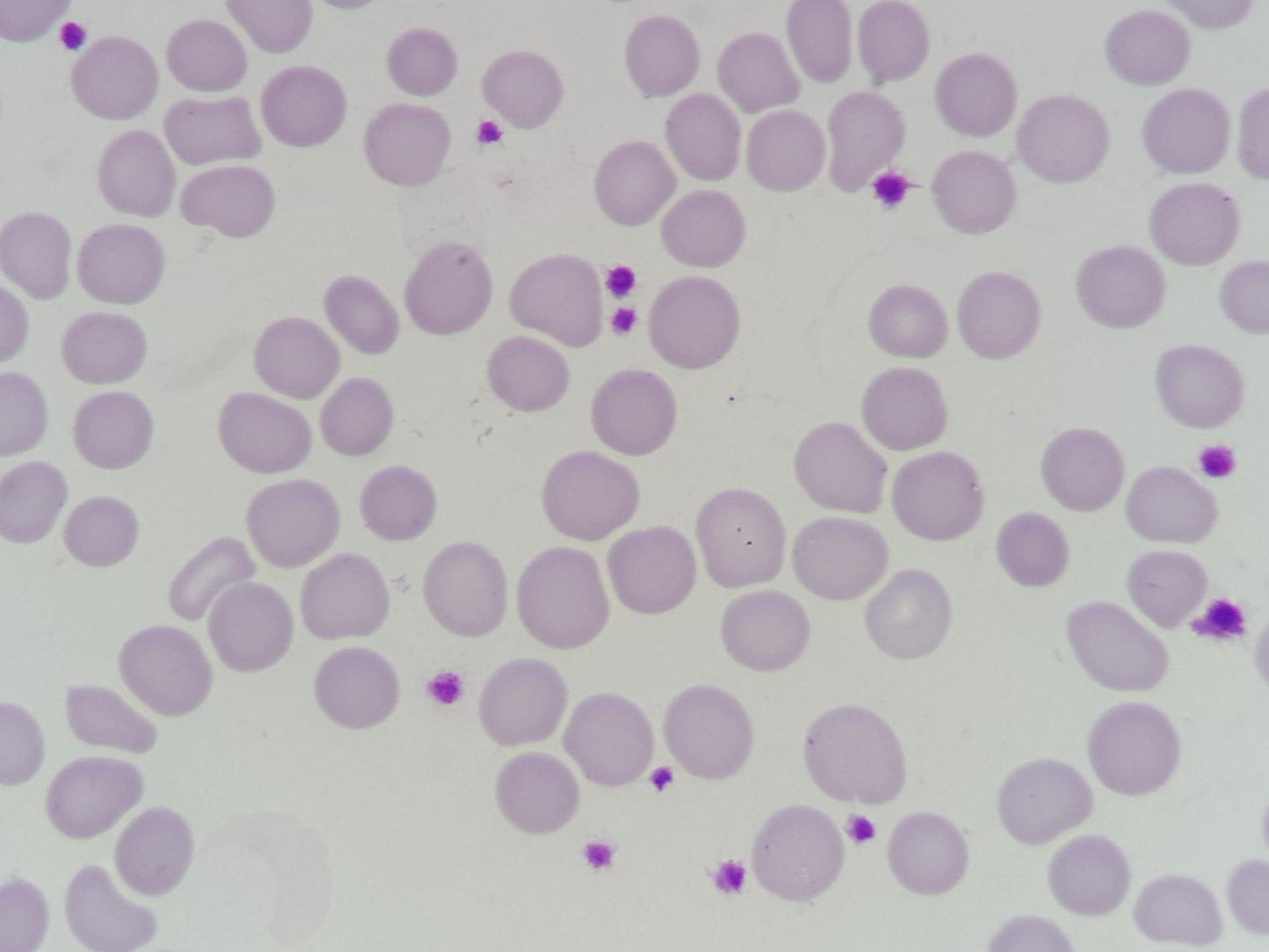Uninfected: (803, 707, 906, 807), (516, 547, 609, 647), (751, 806, 846, 902), (695, 490, 788, 588), (1067, 602, 1168, 691), (117, 626, 212, 718), (542, 449, 638, 540), (1086, 702, 1179, 795), (510, 255, 604, 347), (561, 692, 652, 787), (663, 685, 753, 781), (46, 755, 145, 842), (405, 243, 496, 335), (299, 552, 392, 642), (246, 478, 340, 567), (421, 542, 509, 637), (218, 391, 316, 476), (647, 276, 738, 367), (478, 658, 568, 750), (795, 423, 888, 512), (205, 581, 295, 672), (997, 759, 1092, 845), (865, 569, 954, 660), (63, 866, 157, 952), (791, 517, 888, 600), (607, 527, 697, 616), (1142, 88, 1231, 177), (719, 588, 811, 674), (1154, 344, 1242, 433), (895, 450, 981, 541), (825, 93, 905, 189), (1017, 97, 1107, 182), (169, 537, 257, 623), (1149, 183, 1238, 268), (77, 223, 166, 307), (591, 369, 677, 455), (253, 317, 342, 400), (363, 104, 452, 187), (71, 36, 160, 119), (114, 806, 195, 897), (165, 94, 264, 168), (1076, 246, 1164, 329), (261, 65, 349, 148), (98, 129, 179, 219), (179, 164, 276, 239), (957, 272, 1040, 358), (313, 648, 400, 730), (64, 683, 157, 759), (1042, 430, 1126, 514), (494, 751, 578, 835), (663, 93, 743, 181), (660, 187, 745, 269), (931, 152, 1016, 233), (1047, 835, 1132, 916), (1128, 469, 1217, 546), (887, 813, 969, 896), (862, 372, 946, 452), (594, 142, 674, 226), (745, 109, 825, 193), (1127, 551, 1210, 631), (63, 309, 149, 386), (935, 55, 1017, 135), (487, 336, 571, 414), (73, 391, 154, 470), (1105, 11, 1191, 85), (319, 375, 396, 457), (481, 51, 563, 128), (1, 212, 72, 300), (1133, 874, 1221, 945), (717, 33, 797, 110), (359, 464, 436, 542), (324, 276, 400, 355), (996, 511, 1071, 591), (625, 17, 699, 97), (868, 284, 949, 357), (167, 20, 249, 92), (858, 2, 929, 82), (63, 495, 140, 568), (1, 461, 67, 544), (787, 1, 853, 80), (386, 28, 458, 96), (227, 2, 313, 53), (1, 373, 49, 455), (1220, 260, 1269, 335)
